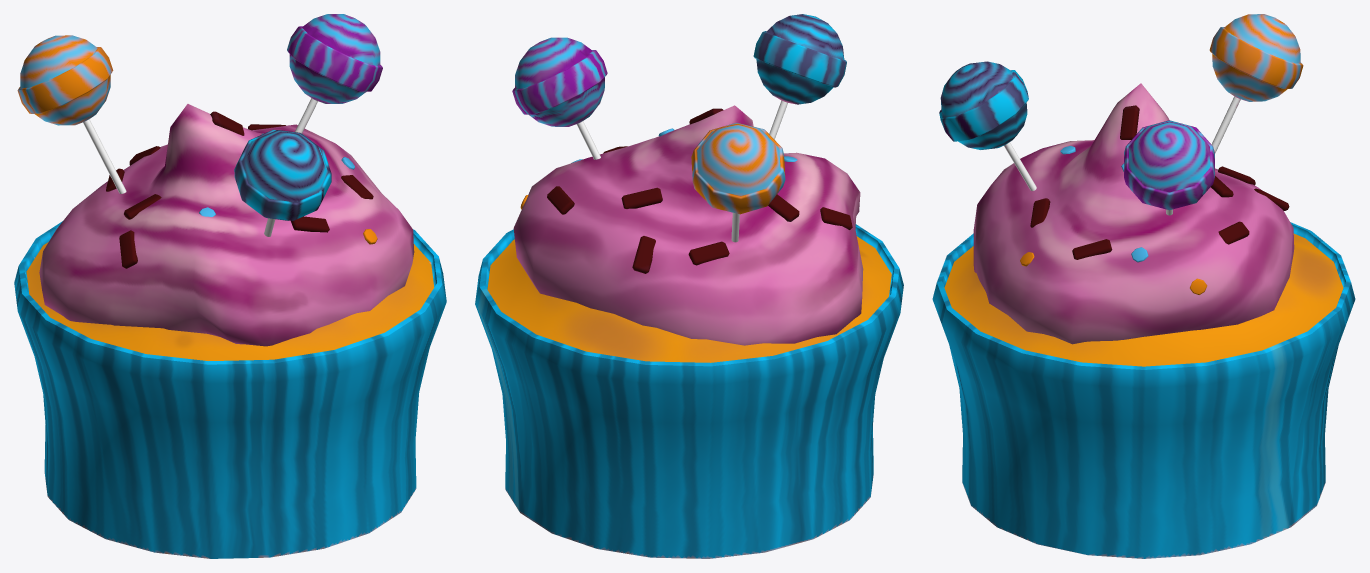
Rendered from sweetness1.glb.
The picture shows the model from 3 angles, left to right: view 1: azimuth 30°, elevation 25°; view 2: azimuth 150°, elevation 25°; view 3: azimuth 270°, elevation 25°; orthographic projection. The views are drawn at different scales.
Parts seen in each view (by area): view 1: Object_2; view 2: Object_2; view 3: Object_2.
Boxes of the visible parts, box(x1,y1,x2,y2) form: Object_2: box(14, 14, 446, 558); Object_2: box(475, 14, 903, 558); Object_2: box(932, 14, 1355, 558).
Size of the model in its own units: 1.04 by 1.12 by 1.04.
Materials: 1 (1 with a texture image).
